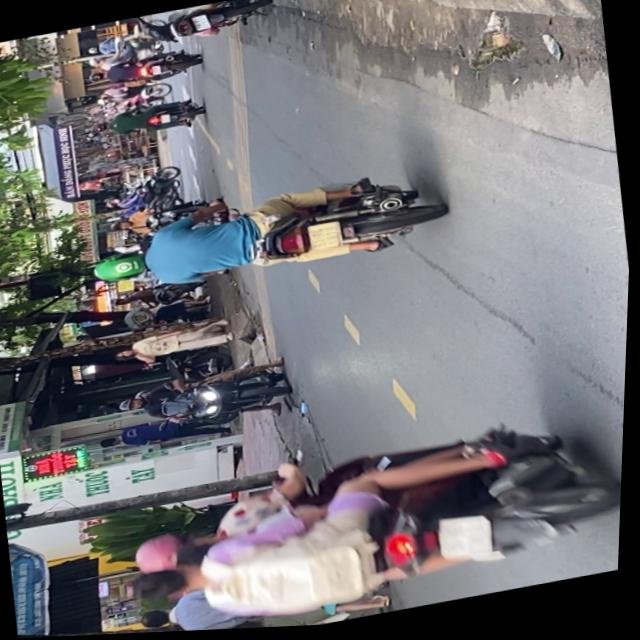helmet: (133, 525, 224, 580), (92, 249, 154, 289), (120, 398, 147, 415)
licenseplate: (83, 163, 451, 311), (115, 356, 298, 443)
motorcyclist: (132, 563, 210, 610), (141, 607, 181, 634)
nohelmet: (440, 517, 497, 571), (308, 224, 344, 255)
